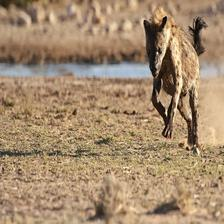hyena: (133, 4, 207, 157)
